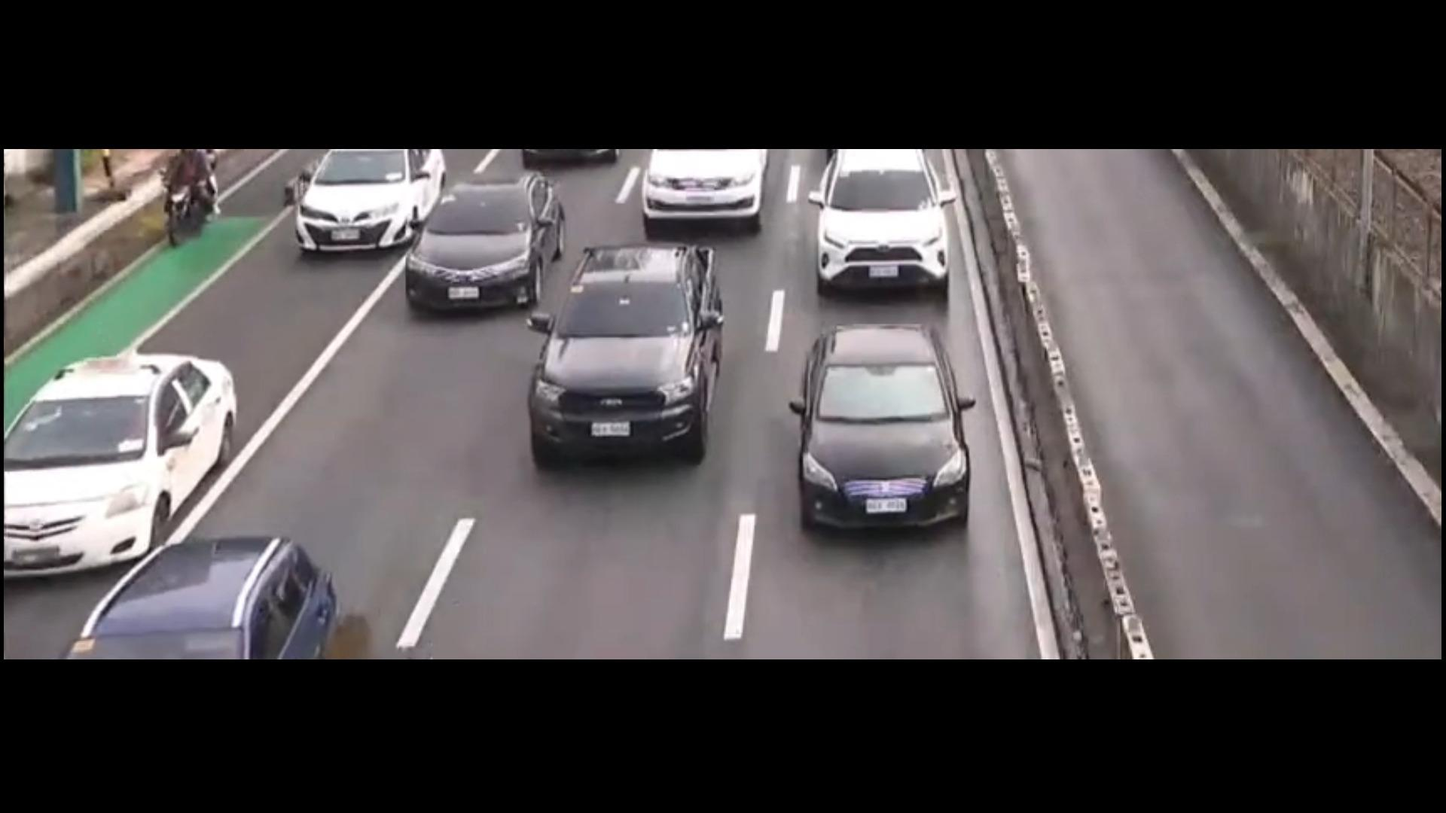Motorcycle: (155, 146, 239, 245)
Pickup: (515, 222, 763, 480)
SUV: (799, 138, 979, 318), (285, 148, 450, 268)
Sedan: (0, 332, 255, 583), (784, 303, 995, 547), (69, 510, 356, 667), (406, 158, 569, 343)
